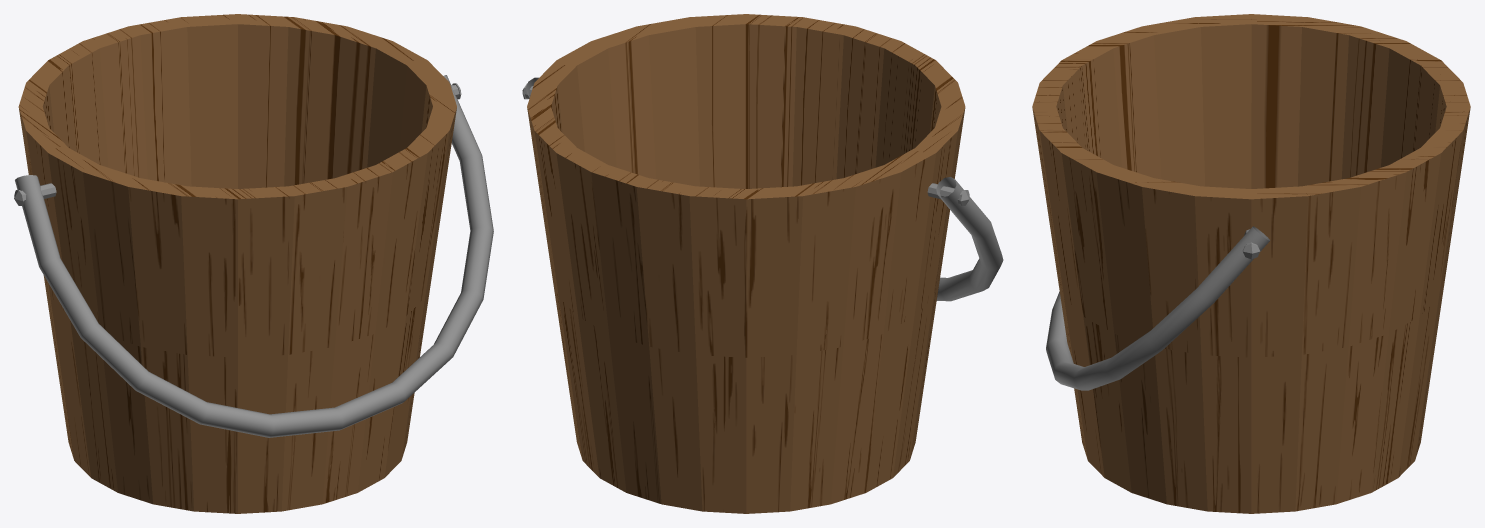
The model's file is Ведро.fbx.
The picture shows the model from 3 angles, left to right: view 1: azimuth 30°, elevation 25°; view 2: azimuth 150°, elevation 25°; view 3: azimuth 270°, elevation 25°; orthographic projection.
Parts seen in each view (by area): view 1: Cylinder.001, BezierCurve; view 2: Cylinder.001, BezierCurve; view 3: Cylinder.001, BezierCurve.
Part boxes in pixels (bbox=[...]): Cylinder.001: bbox=[18, 14, 456, 513]; BezierCurve: bbox=[15, 75, 493, 437]; Cylinder.001: bbox=[527, 14, 965, 513]; BezierCurve: bbox=[525, 77, 1003, 301]; Cylinder.001: bbox=[1032, 14, 1470, 513]; BezierCurve: bbox=[1046, 226, 1270, 390].
Bounding box in the file's own units: 43.73 × 31.41 × 37.17.
